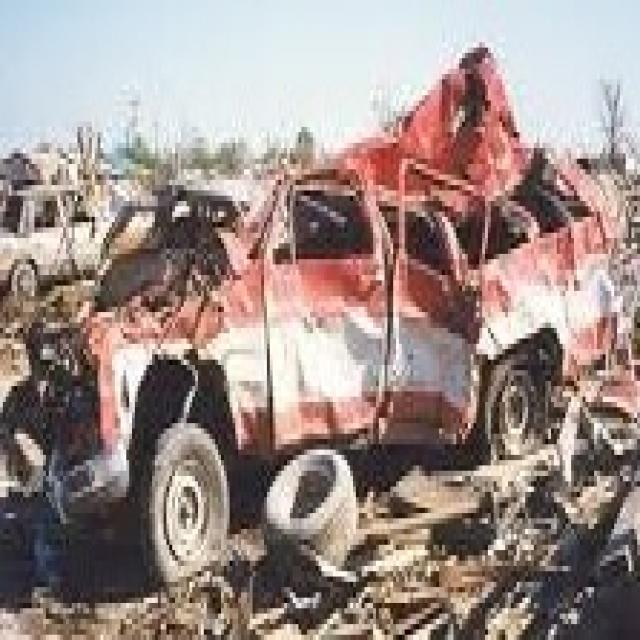severe: (10, 78, 613, 510)
